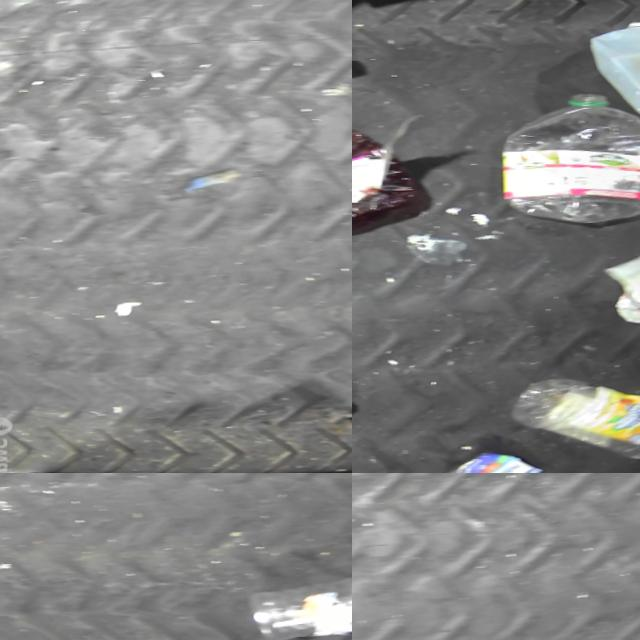can: (424, 451, 541, 473)
milk_jug: (582, 24, 640, 138)
plastic_bottle: (494, 92, 640, 234), (504, 378, 640, 471), (242, 576, 352, 640)
